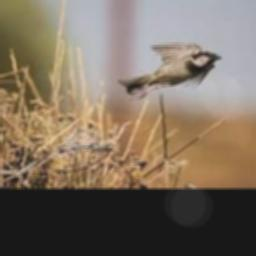Sparrow: (117, 42, 221, 100)
